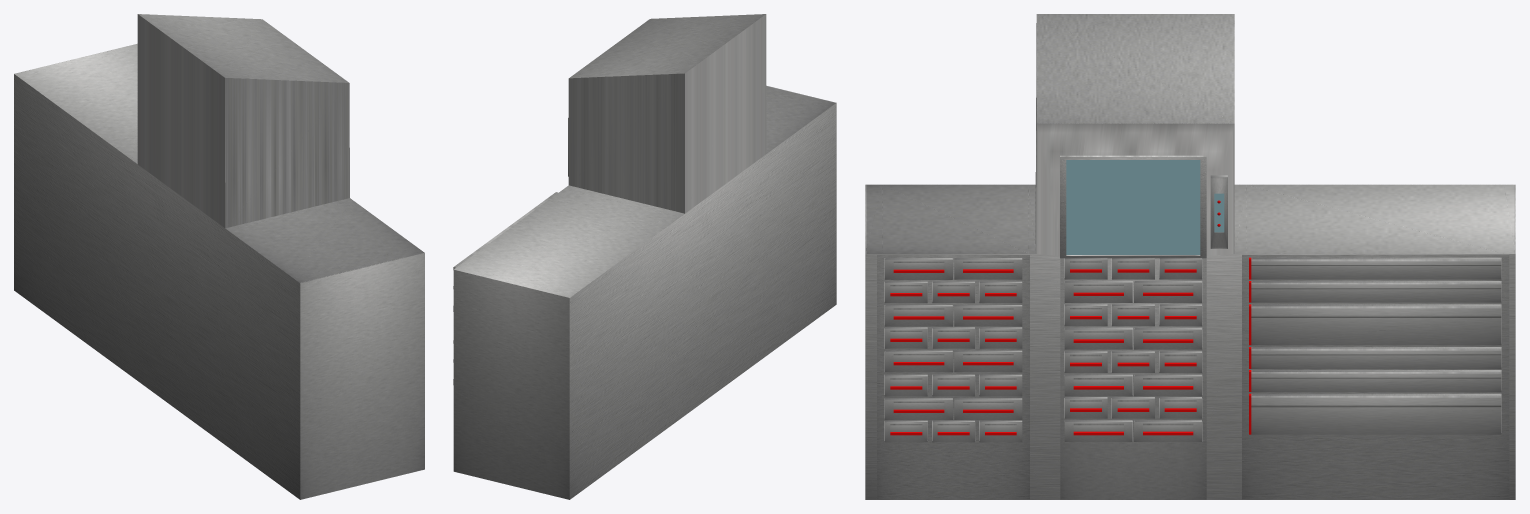
The model's file is medicijnkast2.fbx.
3 renders of one model, left to right at view 1: azimuth 30°, elevation 25°; view 2: azimuth 150°, elevation 25°; view 3: azimuth 270°, elevation 25°, orthographic. The views are drawn at different scales.
Visible parts, largest first — view 1: back; view 2: back; view 3: back, plakaatR, centrum, plakaatL, PlakaatC, R3, R6, R2, R1, R4, R5, C10 (+40 smaller).
Boxes of the visible parts, x1=… form: back: x1=14, y1=14, x2=424, y2=499; back: x1=453, y1=14, x2=836, y2=499; back: x1=865, y1=14, x2=1515, y2=499; plakaatR: x1=1242, y1=254, x2=1509, y2=499; centrum: x1=1060, y1=155, x2=1206, y2=440; plakaatL: x1=877, y1=255, x2=1029, y2=499; PlakaatC: x1=1060, y1=258, x2=1206, y2=499; R3: x1=1251, y1=304, x2=1501, y2=345; R6: x1=1251, y1=393, x2=1501, y2=434; R2: x1=1251, y1=257, x2=1501, y2=279; R1: x1=1251, y1=281, x2=1501, y2=302; R4: x1=1251, y1=347, x2=1501, y2=368; R5: x1=1251, y1=370, x2=1501, y2=391; C10: x1=1064, y1=327, x2=1132, y2=349.
Size of the model in its own units: 83.49 by 223 by 316.
Materials: 6 (4 with a texture image).
